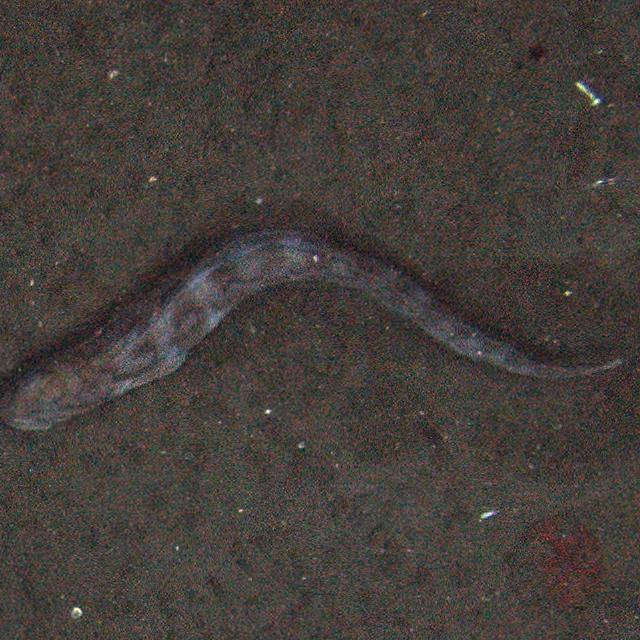roundfish: (0, 226, 631, 448)
